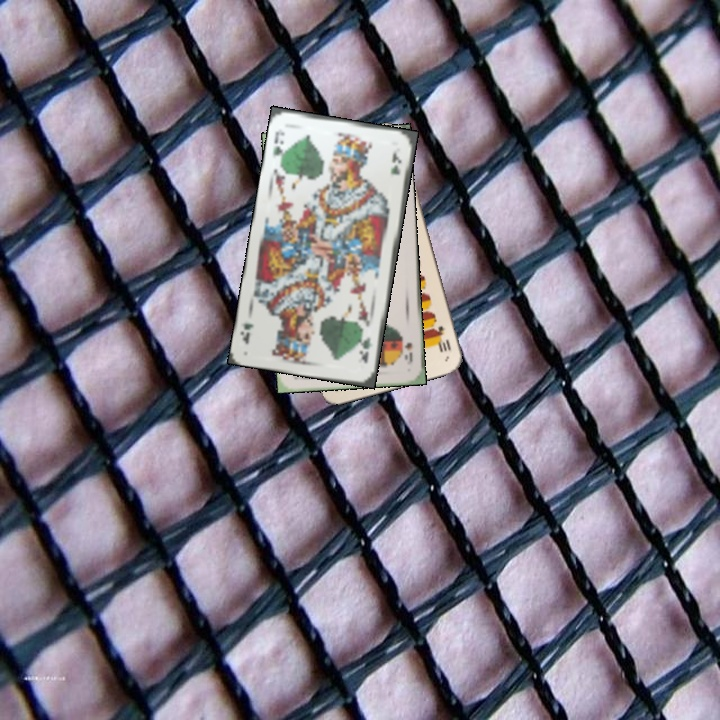E10: (432, 322, 454, 354)
GK: (355, 329, 375, 366), (268, 127, 288, 159)
SO: (398, 332, 415, 366)
